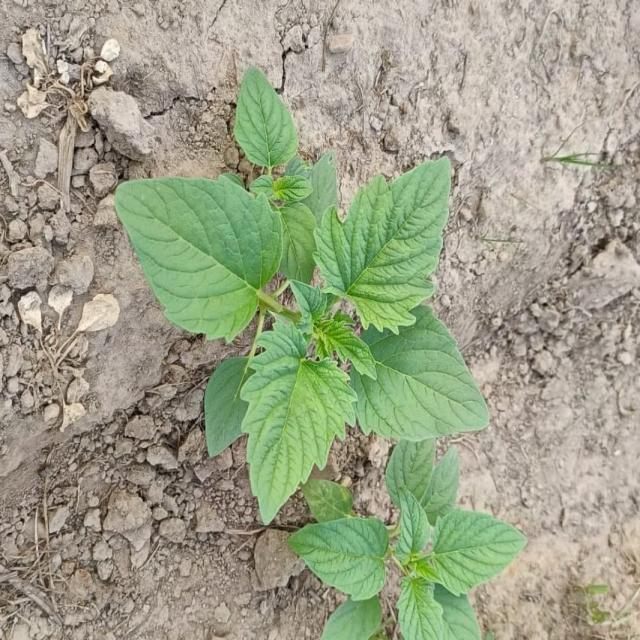plant: (115, 69, 489, 523)
